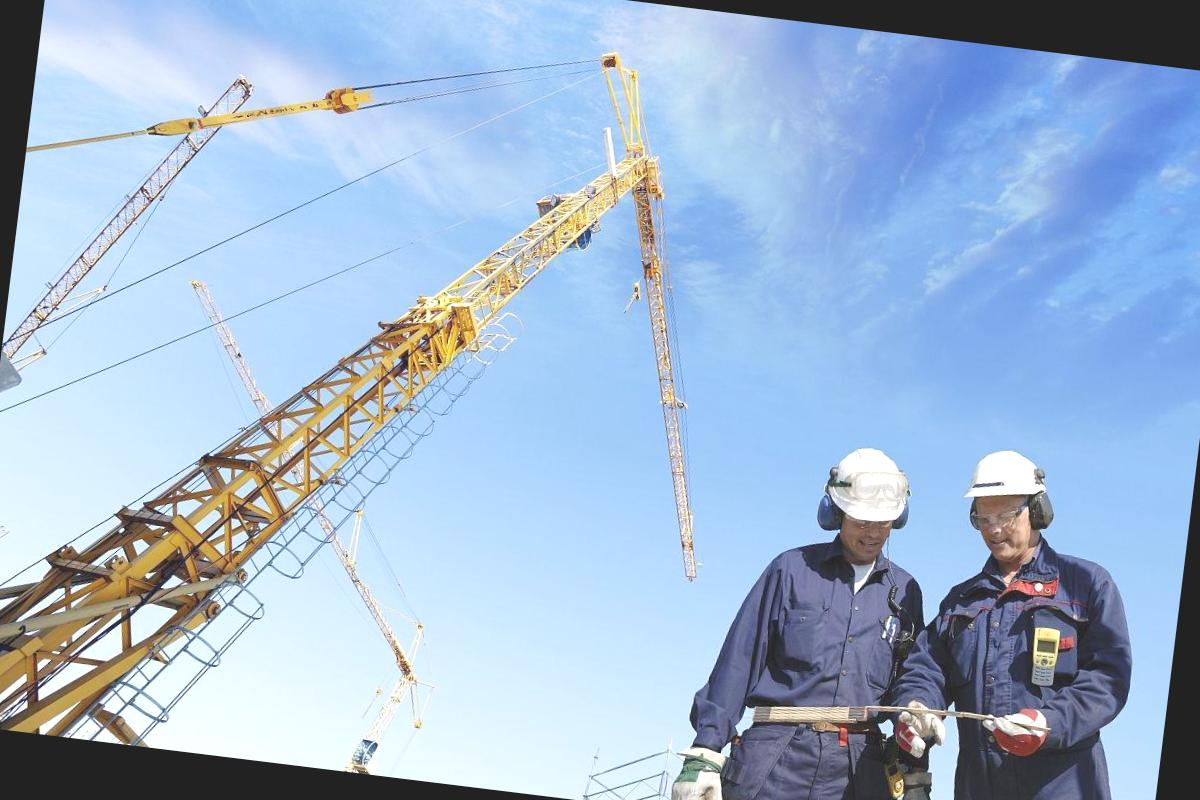helmet: (818, 442, 915, 528), (965, 444, 1055, 506)
no_vest: (920, 536, 1126, 778), (715, 538, 926, 774)
person: (658, 420, 950, 800), (908, 439, 1167, 800)
